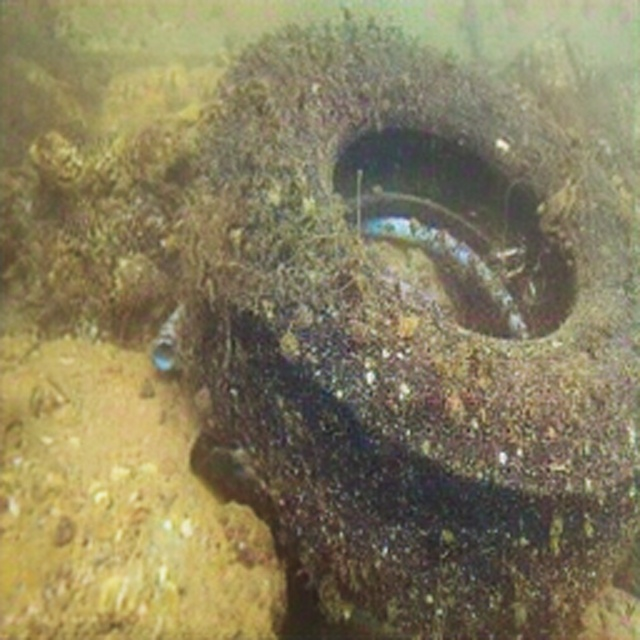mine: (202, 22, 639, 639)
